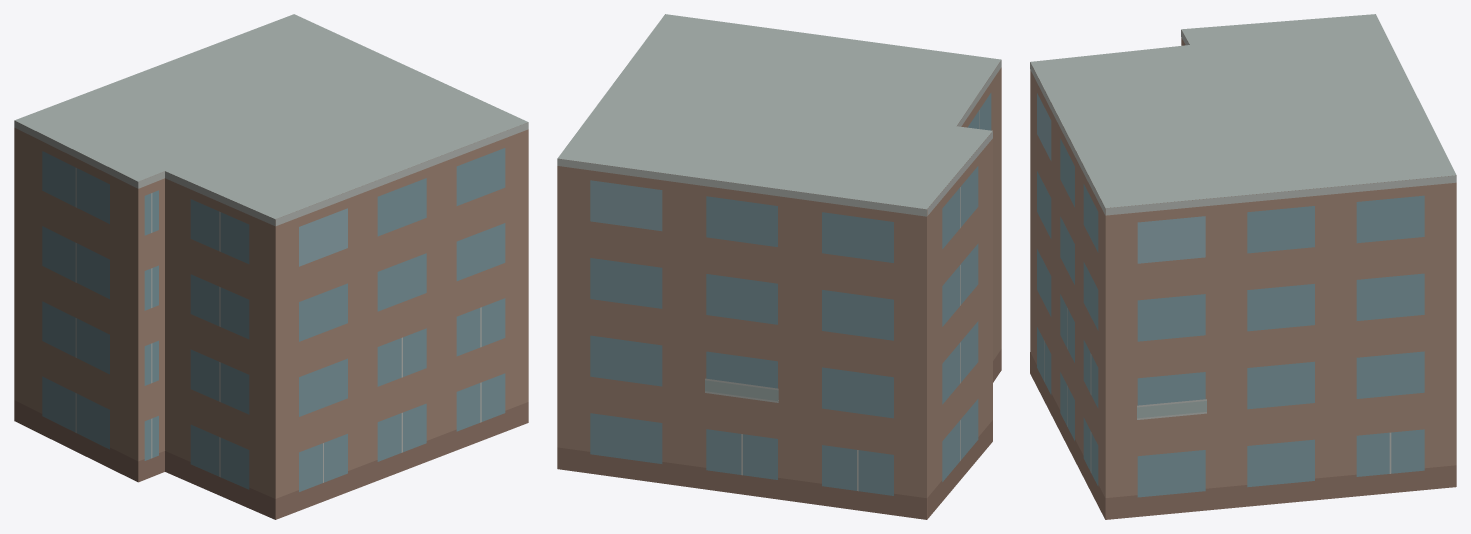
The model's file is survey-upis-32713627.glb.
3 views of the same model, side by side, from view 1: azimuth 30°, elevation 25°; view 2: azimuth 150°, elevation 25°; view 3: azimuth 270°, elevation 25° (orthographic). The views are drawn at different scales.
Visible parts, largest first — view 1: survey-upis-32713627.tmp; view 2: survey-upis-32713627.tmp; view 3: survey-upis-32713627.tmp.
Boxes of the visible parts, x1,y1,x2,y2 form: survey-upis-32713627.tmp: (14,14,528,519); survey-upis-32713627.tmp: (557,14,1001,519); survey-upis-32713627.tmp: (1030,14,1456,519).
Bounding box in the file's own units: 13.77 × 10.3 × 12.78.
